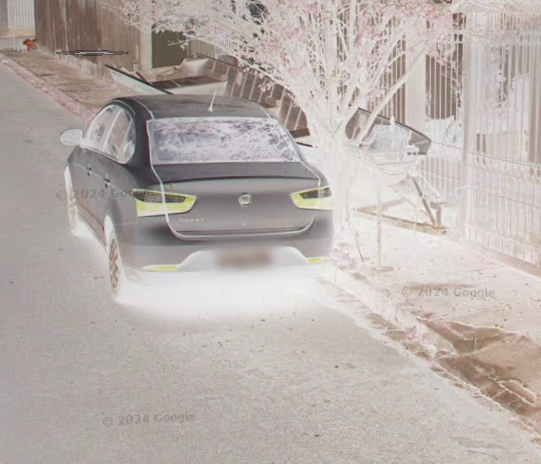car: (57, 86, 341, 308)
